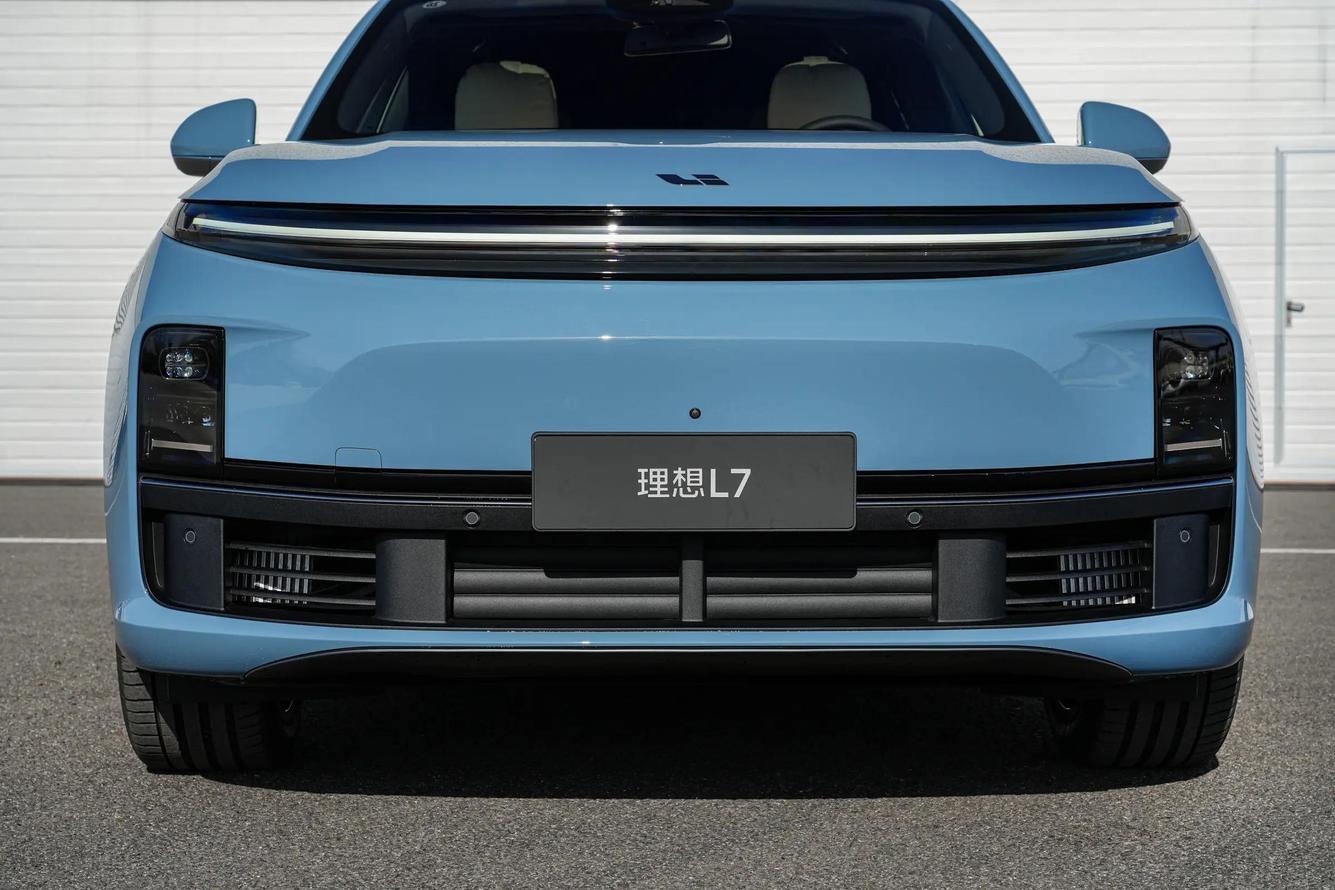Li Auto: (655, 173, 731, 186)
